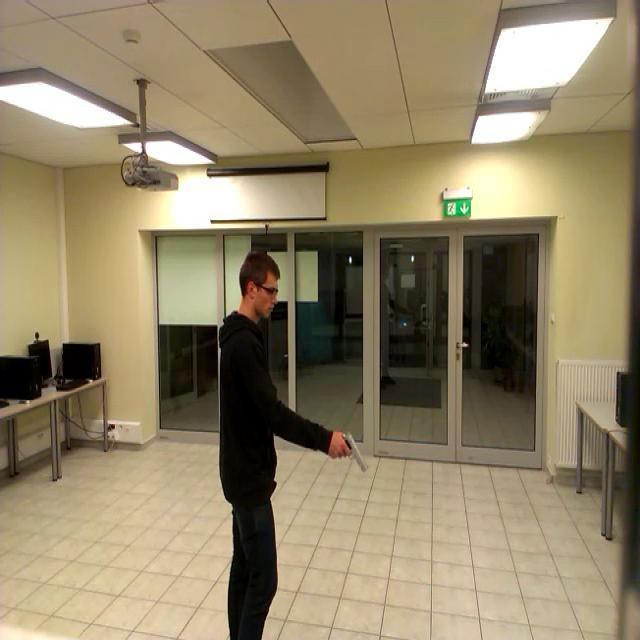Gun: (337, 431, 367, 471)
